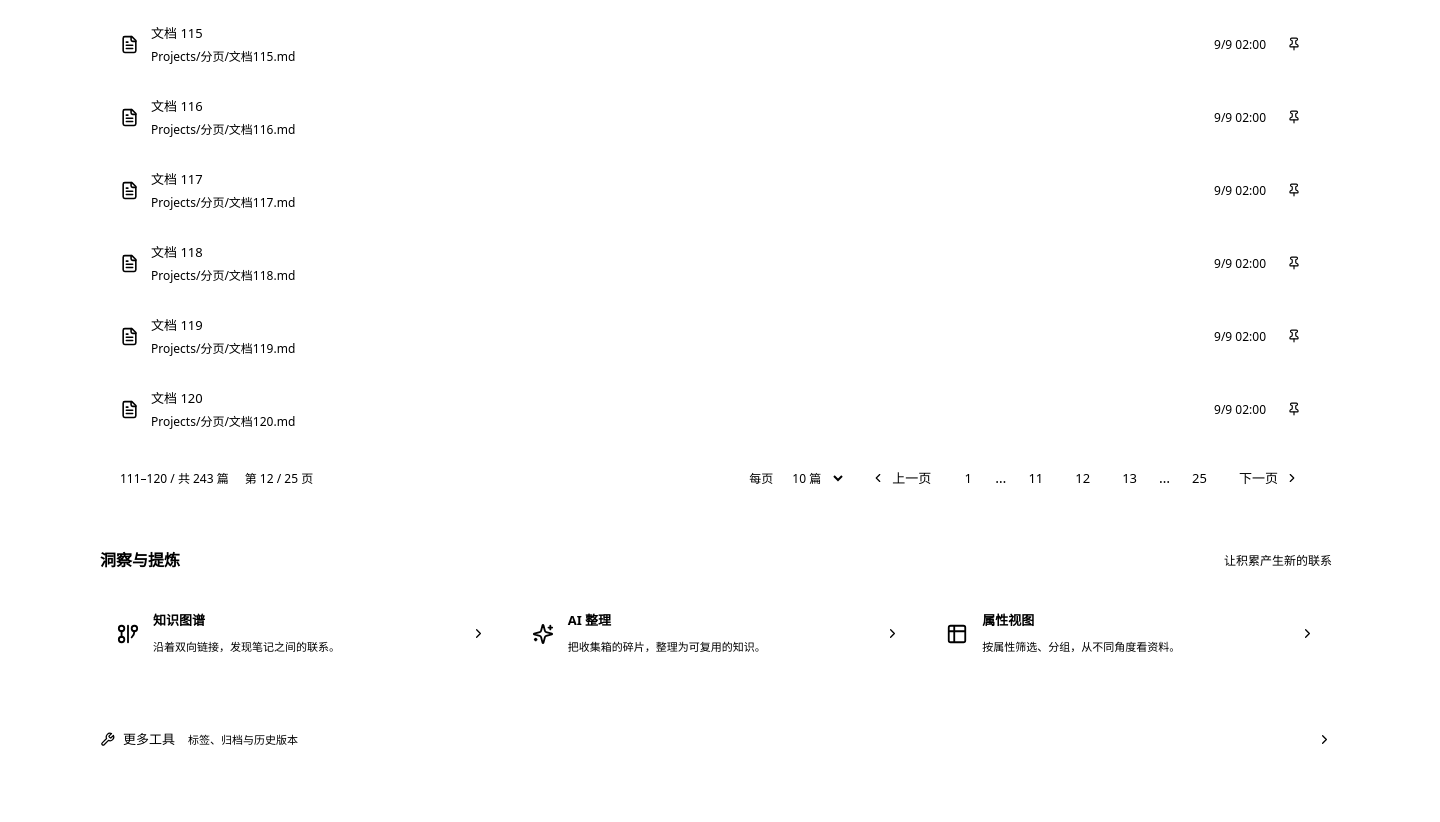
Scenario: KnowledgeVaultView pagination › keeps numbered navigation bounded while allowing a jump to the last page
(page scrolled)
Click the button named "第 25 页" at (1200, 478), box [1179,460,1220,496]
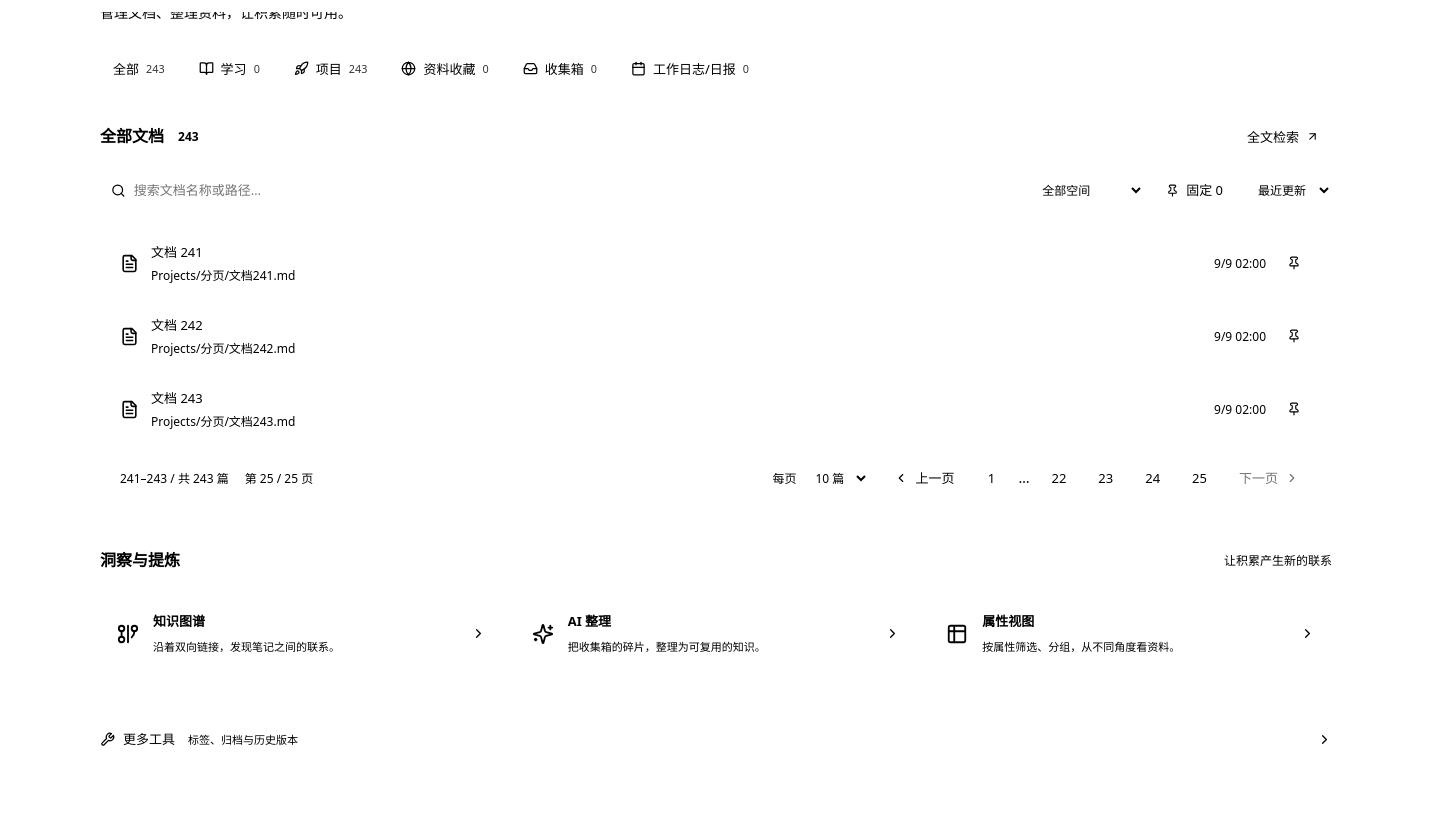
expect the number of elements with test id "vault-document" is 3: met, box [120,227,1312,300]; [120,300,1312,373]; [120,373,1312,446]
expect the message with test id "vault-pagination-status" shows "241–243": met, box [120,470,229,487]
